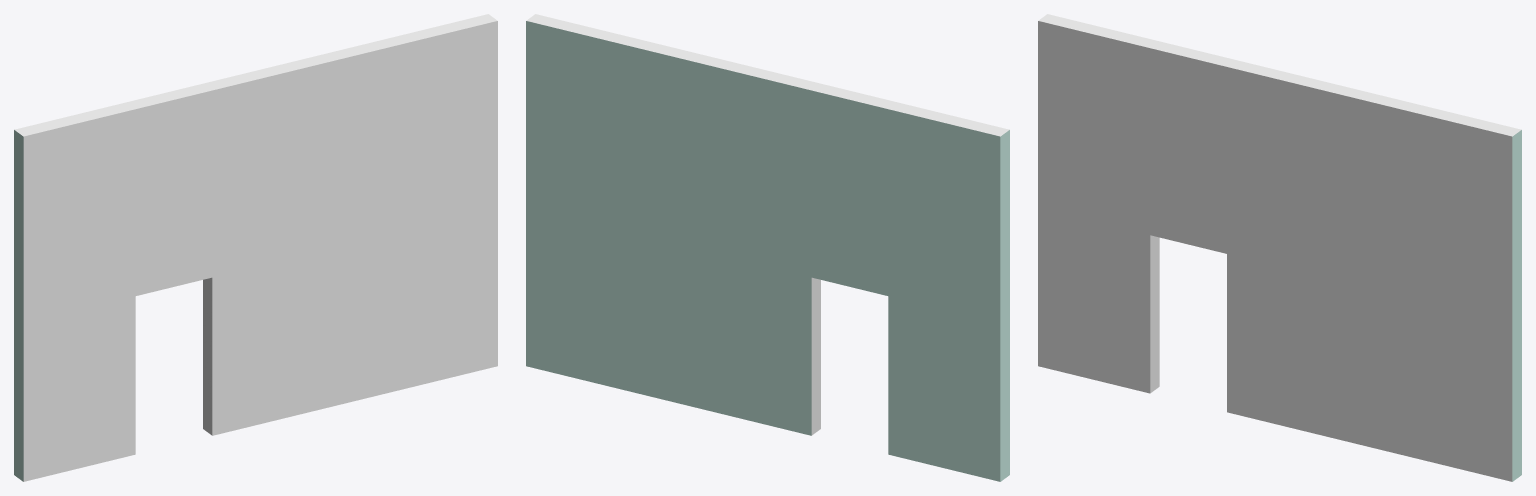
The model's file is sciana.fbx.
3 views of the same model, side by side, from view 1: azimuth 30°, elevation 25°; view 2: azimuth 150°, elevation 25°; view 3: azimuth 330°, elevation 25° (orthographic).
Visible parts, largest first — view 1: Cube; view 2: Cube; view 3: Cube.
Part boxes in pixels (bbox=[...]): Cube: bbox=[14, 14, 497, 481]; Cube: bbox=[526, 14, 1009, 481]; Cube: bbox=[1038, 14, 1521, 481].
Size of the model in its own units: 1966 by 1368 by 67.22.
